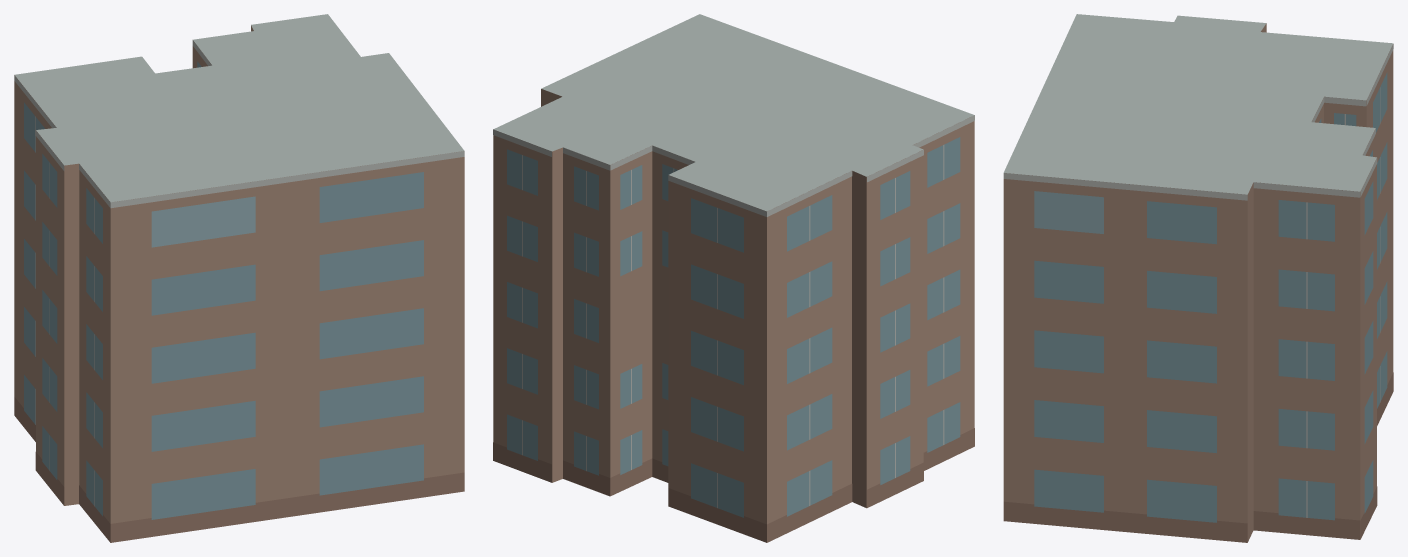
Rendered from survey-upis-32489080.glb.
3 views of the same model, side by side, from view 1: azimuth 30°, elevation 25°; view 2: azimuth 150°, elevation 25°; view 3: azimuth 270°, elevation 25° (orthographic). The views are drawn at different scales.
Visible parts, largest first — view 1: survey-upis-32489080.tmp; view 2: survey-upis-32489080.tmp; view 3: survey-upis-32489080.tmp.
Boxes of the visible parts, <box> form: survey-upis-32489080.tmp: <box>14,14,464,542</box>; survey-upis-32489080.tmp: <box>493,14,974,542</box>; survey-upis-32489080.tmp: <box>1003,14,1393,542</box>.
Bounding box in the file's own units: 15.7 × 14.1 × 14.32.
